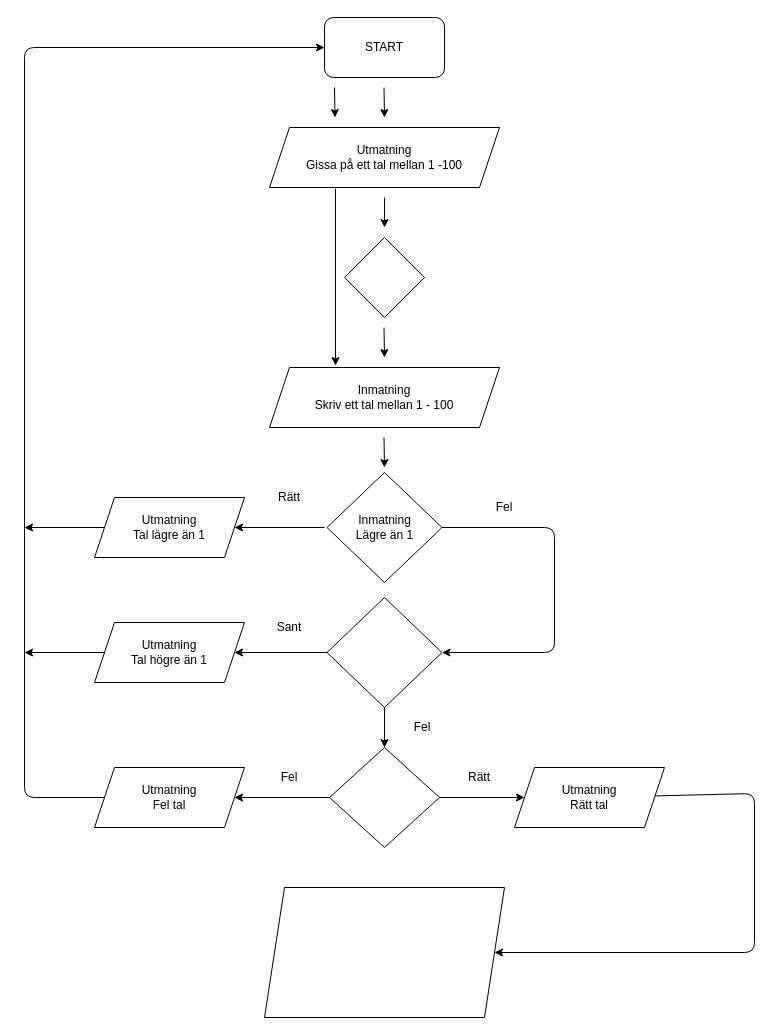
Some shapes in this 780 by 1035 pixel diagram are drawn without their labels. Each missing label, with the centre of its shape:
"Inmatning Högre än 100" belongs at pixel 384 652.
"Inmatning Slumptal" belongs at pixel 384 797.
"Slumptal" belongs at pixel 384 277.
"Utmatning Rätt tal, det tog dig (antal gånger)" belongs at pixel 384 952.
